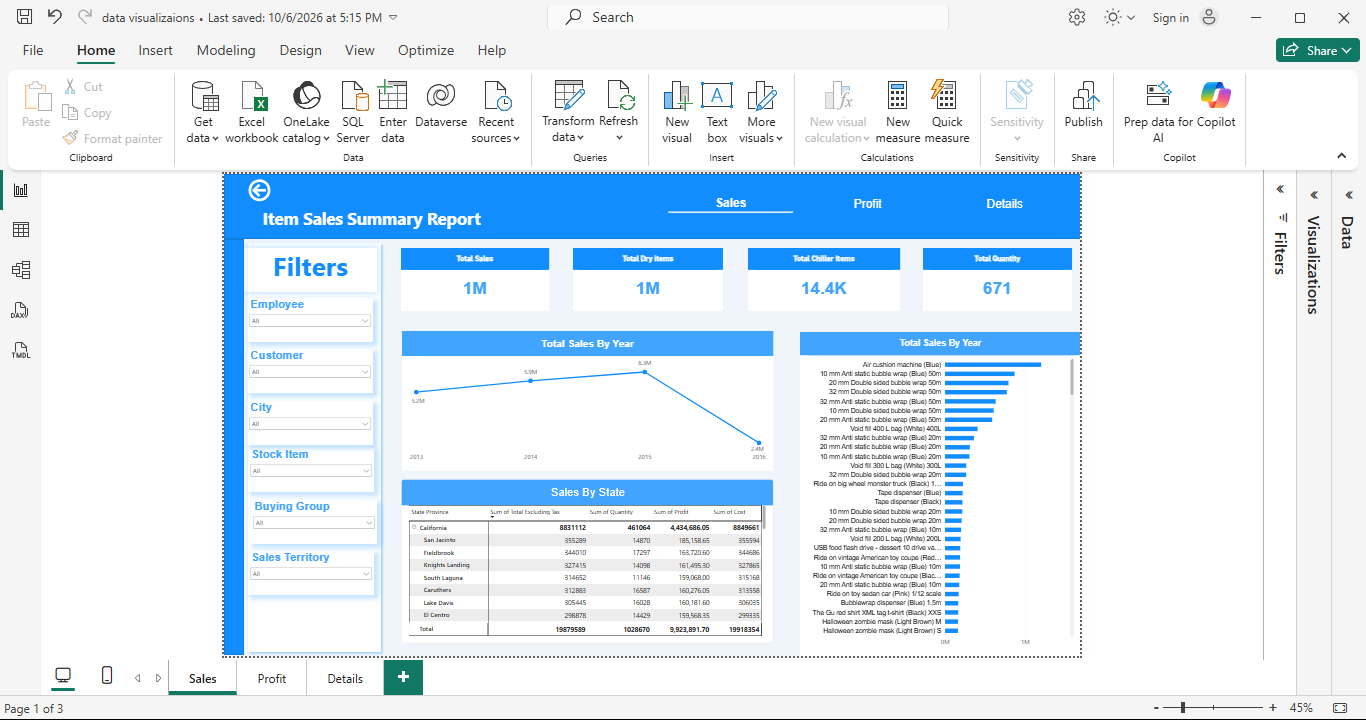

The page's visual inventory and layout, read from the dashboard file:
{"tool":"powerbi","page":{"name":"Sales","canvas":[1920,1080],"ordinal":0},"visuals":[{"type":"pivotTable","title":"Sales By State","fields":{"Rows":["DimCity.State Province","DimCity.City"],"Values":["Sum(FactSale.Total Excluding Tax)","Sum(FactSale.Quantity)","Sum(FactSale.Profit)","Sum(FactSale.Cost)"]},"box":[395.7,683,835,368.3],"z":0},{"type":"card","title":"Total Sales","fields":{"Values":["Sum(FactSale.Quantity)"]},"box":[396.6,165.8,331.6,141.2],"z":1000},{"type":"shape","box":[0,0,1920.2,145.6],"z":2000},{"type":"shape","box":[44.8,145.6,315.9,934.4],"z":3000},{"type":"slicer","fields":{"Values":["DimEmpolyee.Employee"]},"box":[51.1,278.7,283,97.9],"z":4000},{"type":"textbox","box":[44.8,165.8,298,98.6],"z":5000},{"type":"shape","box":[0,145.6,44.8,932.1],"z":6000},{"type":"textbox","box":[44.7,74.5,572.3,70.2],"z":7000},{"type":"card","title":"Total Quantity","fields":{"Values":["CountNonNull(DimStockItem.Quantity Per Outer)"]},"box":[1566.2,165.8,333.9,141.2],"z":8000},{"type":"card","title":"Total Chiller Items","fields":{"Values":["Sum(FactSale.Total Chiller Items)"]},"box":[1174.1,165.8,340.6,141.2],"z":9000},{"type":"card","title":"Total Dry items","fields":{"Values":["Sum(FactSale.Total Dry Items)"]},"box":[782,165.8,336.1,141.2],"z":10000},{"type":"barChart","title":" Total Sales By Year","fields":{"Category":["DimStockItem.Stock Item"],"Y":["Sum(FactSale.Total Excluding Tax)"]},"box":[1290.6,354,629.6,726],"z":11000},{"type":"lineChart","title":" Total Sales By Year","fields":{"Category":["DimData.Date.Variation.Date Hierarchy.Year","DimData.Date.Variation.Date Hierarchy.Quarter","DimData.Date.Variation.Date Hierarchy.Month","DimData.Date.Variation.Date Hierarchy.Day"],"Y":["Sum(FactSale.Total Excluding Tax)"]},"box":[397.9,351.1,831.9,312.8],"z":12000},{"type":"slicer","fields":{"Values":["DimCustomer.Customer"]},"box":[51.1,391.5,283,97.9],"z":13000},{"type":"slicer","fields":{"Values":["DimCity.City"]},"box":[51.1,508.5,283,97.9],"z":14000},{"type":"slicer","fields":{"Values":["DimCustomer.Buying Group"]},"box":[59.6,729.8,283,97.9],"z":15000},{"type":"actionButton","box":[0,0,159.6,72.3],"z":17000},{"type":"pageNavigator","box":[985.1,36.2,914.9,61.7],"z":18000},{"type":"slicer","fields":{"Values":["DimStockItem.Stock Item"]},"box":[53.8,613.9,283,97.9],"z":19000},{"type":"slicer","fields":{"Values":["DimCity.Sales Territory"]},"box":[53.8,844.7,283,97.9],"z":19001}]}

Visuals, with their boxes on the page's 1920x1080 design canvas (x1, y1, x2, y2). These are canvas units, not pixel positions in the 1366x720 screenshot, which may show the page scaled, cropped or inside an application window:
"Sales By State" pivotTable: x1=396, y1=683, x2=1231, y2=1051
"Total Sales" card: x1=397, y1=166, x2=728, y2=307
shape: x1=0, y1=0, x2=1920, y2=146
shape: x1=45, y1=146, x2=361, y2=1080
slicer - DimEmpolyee.Employee: x1=51, y1=279, x2=334, y2=377
textbox: x1=45, y1=166, x2=343, y2=264
shape: x1=0, y1=146, x2=45, y2=1078
textbox: x1=45, y1=74, x2=617, y2=145
"Total Quantity" card: x1=1566, y1=166, x2=1900, y2=307
"Total Chiller Items" card: x1=1174, y1=166, x2=1515, y2=307
"Total Dry items" card: x1=782, y1=166, x2=1118, y2=307
" Total Sales By Year" barChart: x1=1291, y1=354, x2=1920, y2=1080
" Total Sales By Year" lineChart: x1=398, y1=351, x2=1230, y2=664
slicer - DimCustomer.Customer: x1=51, y1=392, x2=334, y2=489
slicer - DimCity.City: x1=51, y1=508, x2=334, y2=606
slicer - DimCustomer.Buying Group: x1=60, y1=730, x2=343, y2=828
actionButton: x1=0, y1=0, x2=160, y2=72
pageNavigator: x1=985, y1=36, x2=1900, y2=98
slicer - DimStockItem.Stock Item: x1=54, y1=614, x2=337, y2=712
slicer - DimCity.Sales Territory: x1=54, y1=845, x2=337, y2=943
